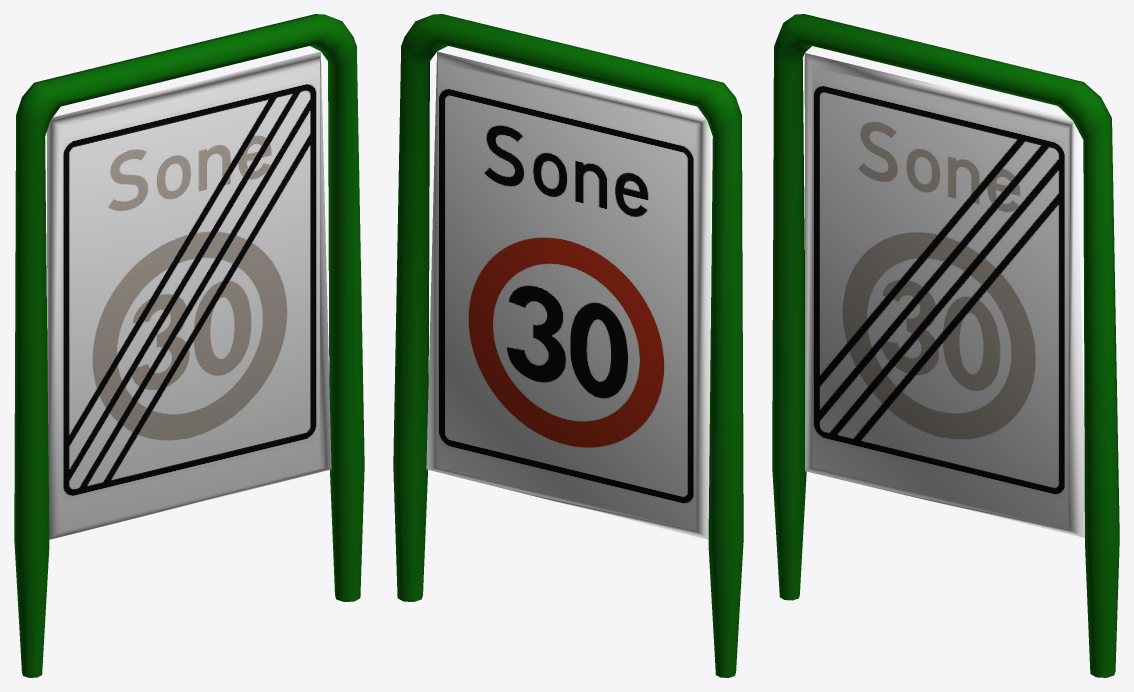
File: 30Sone_EXP.fbx
3 renders of one model, left to right at view 1: azimuth 30°, elevation 25°; view 2: azimuth 150°, elevation 25°; view 3: azimuth 330°, elevation 25°, orthographic.
Parts seen in each view (by area): view 1: polySurface1; view 2: polySurface1; view 3: polySurface1.
Part boxes in pixels (x1,y1,x2,y2): polySurface1: (14,14,364,677); polySurface1: (393,14,743,677); polySurface1: (772,14,1119,677).
Bounding box in the file's own units: 1.08 × 1.75 × 0.1004.
1 material, 1 textured.
